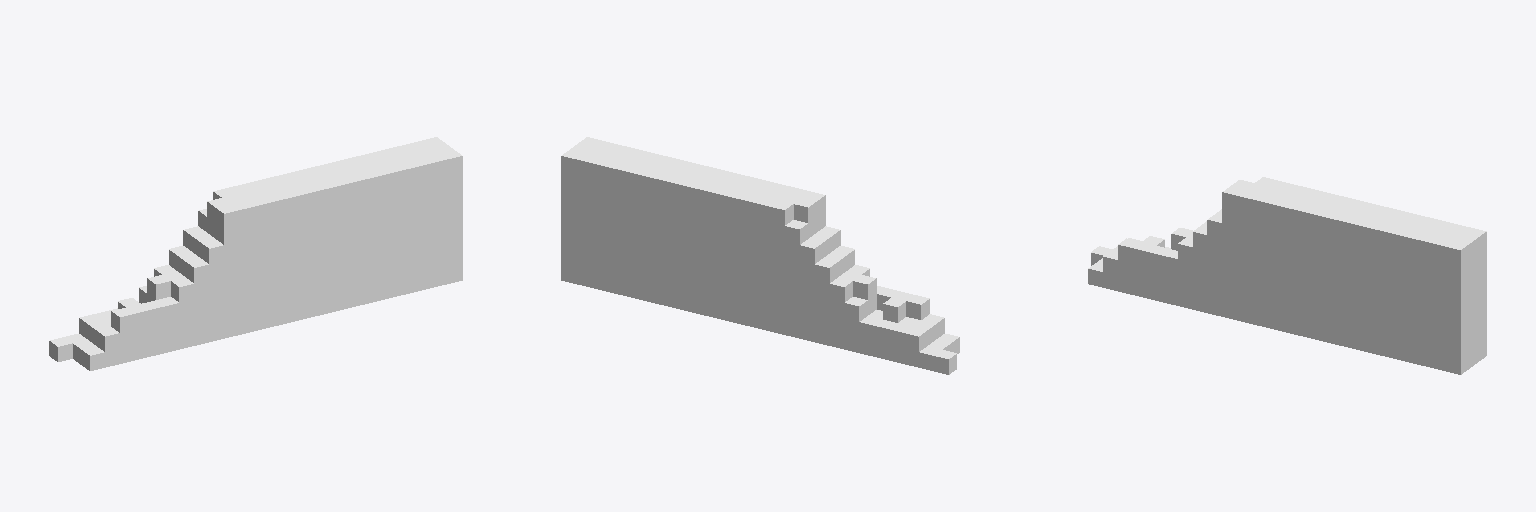
The model's file is muro3.obj.
3 views of the same model, side by side, from view 1: azimuth 30°, elevation 25°; view 2: azimuth 150°, elevation 25°; view 3: azimuth 330°, elevation 25° (orthographic).
Parts seen in each view (by area): view 1: object 1; view 2: object 1; view 3: object 1.
Part boxes in pixels (bbox=[...]): object 1: bbox=[49, 137, 462, 370]; object 1: bbox=[561, 137, 959, 374]; object 1: bbox=[1088, 177, 1486, 374].
Bounding box in the file's own units: 2.6 × 0.8 × 0.3.